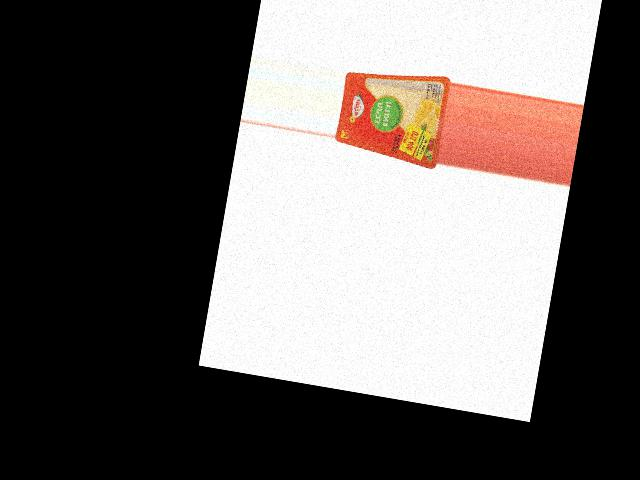cheese: (333, 60, 451, 170)
